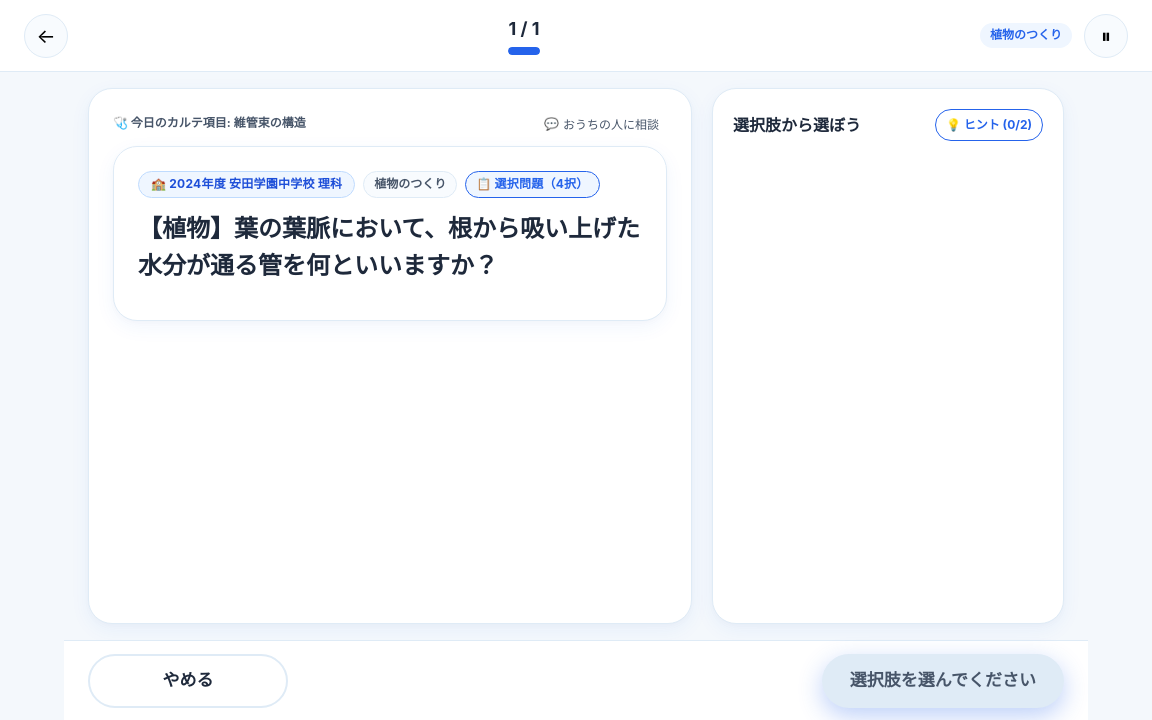
Test case: StudyPage Hints and Report Feature › displays both Hint 1 and Hint 2 simultaneously when user opens hint 2
Click the button with test id "show-hint-btn" at (989, 125), box [935,109,1043,141]
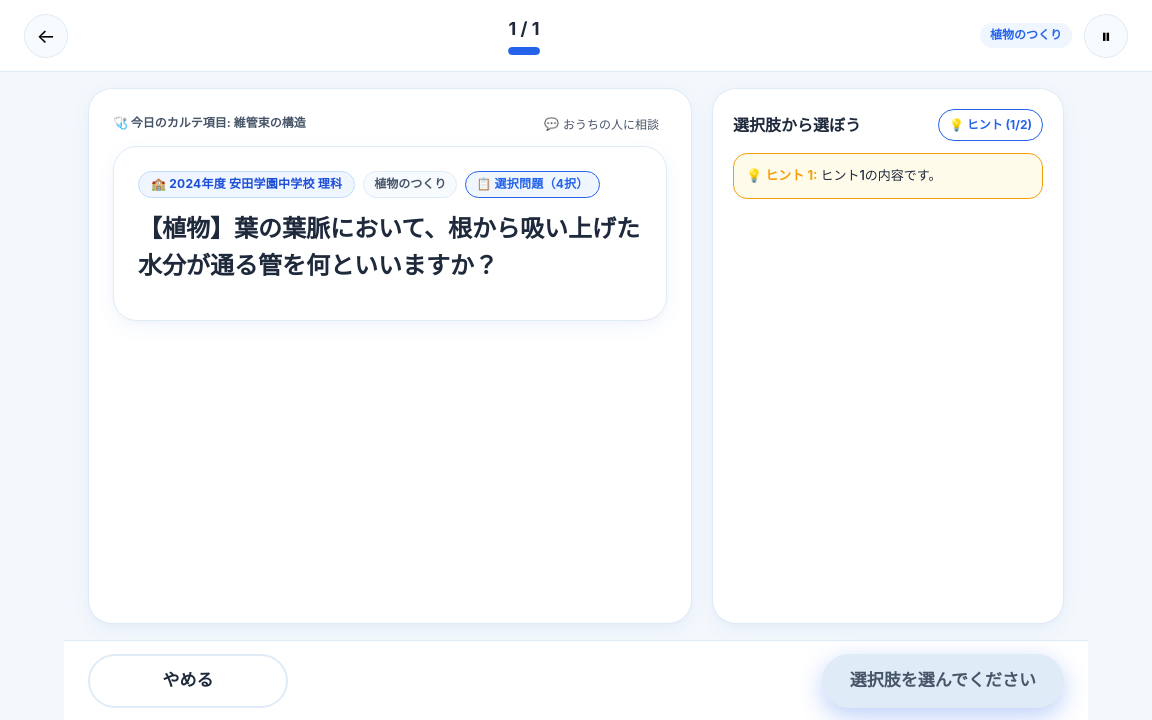
Expected: the element with test id "hint-box" does not show "💡 ヒント 2:", [733,153,1043,198]
Now the element with test id "hint-box" shows "💡 ヒント 1:", box [733,153,1043,198]
Now the element with test id "hint-box" shows "ヒント1の内容です。", box [820,167,942,183]
// 2回目のヒントクリック（ヒント2開示）
Click the button with test id "show-hint-btn" at (990, 125), box [938,109,1043,141]
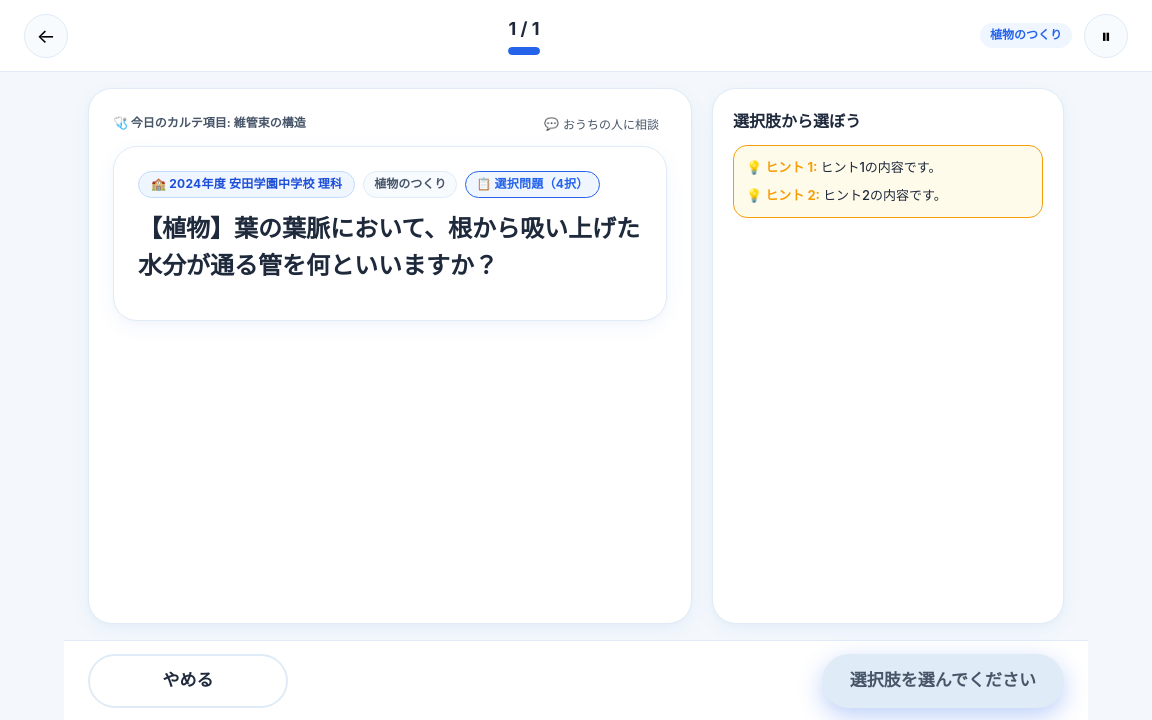
Now the element with test id "hint-box" shows "💡 ヒント 1:", box [733,145,1043,218]
Now the element with test id "hint-box" shows "ヒント1の内容です。", box [820,159,942,175]
Now the element with test id "hint-box" shows "💡 ヒント 2:", box [733,145,1043,218]
